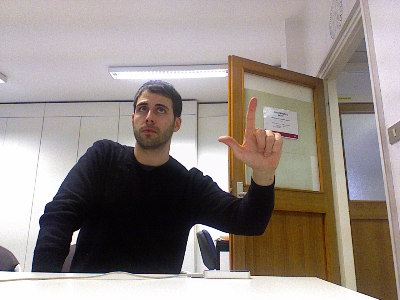枪: (216, 95, 284, 171)
